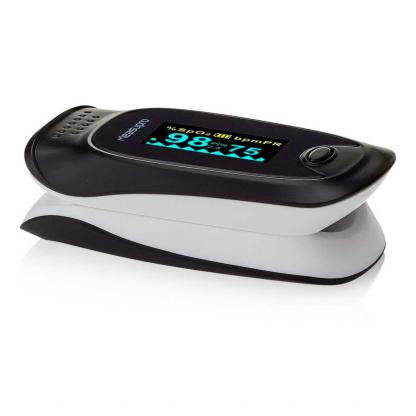Displays: (139, 122, 291, 163)
